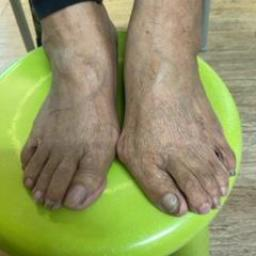Dorsal View -Both Feet-: (10, 6, 252, 246)
